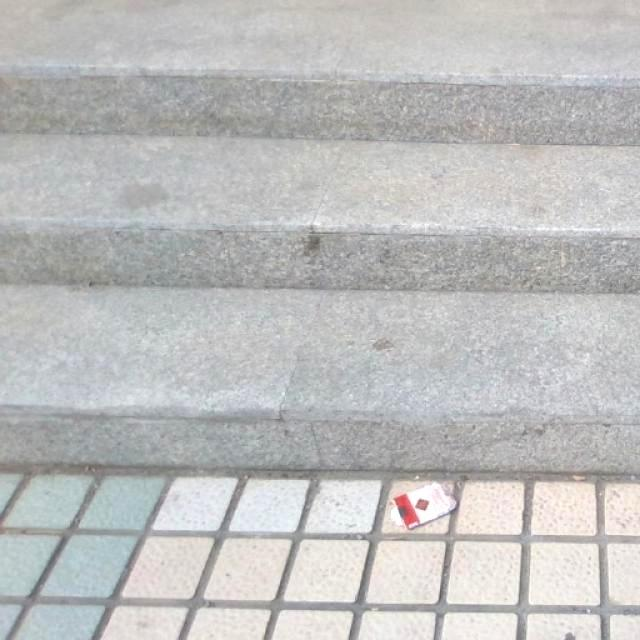stair: (0, 26, 636, 474)
